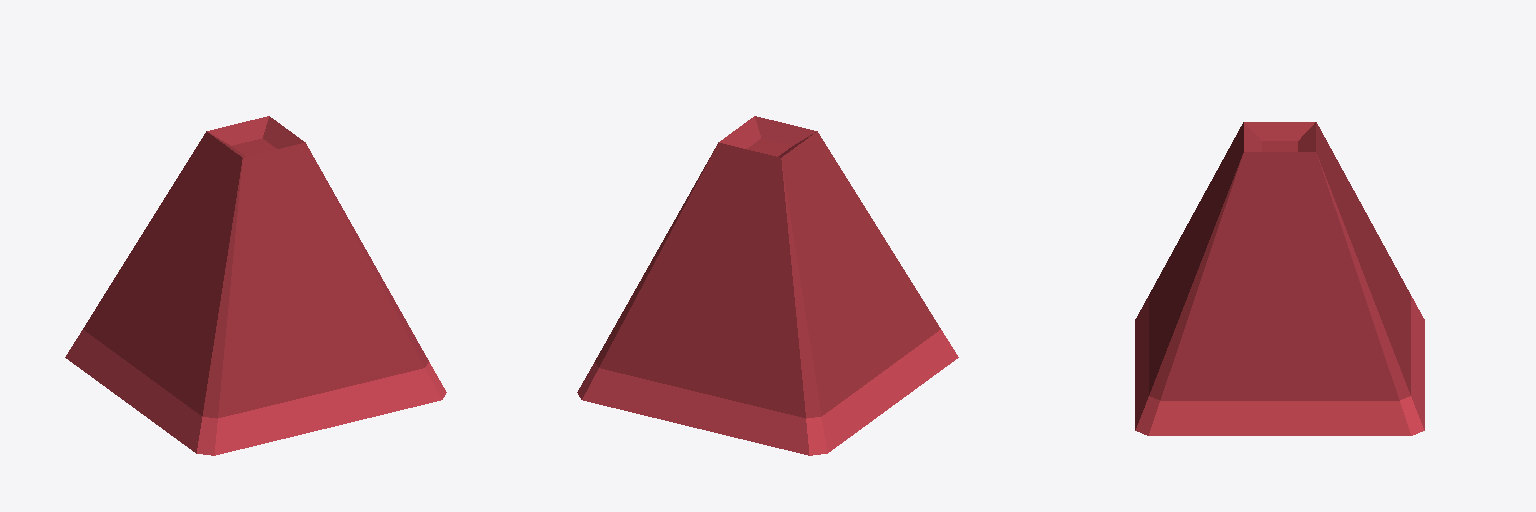
The model's file is roofHighPoint.obj.
3 views of the same model, side by side, from view 1: azimuth 30°, elevation 25°; view 2: azimuth 150°, elevation 25°; view 3: azimuth 270°, elevation 25° (orthographic).
Visible parts, largest first — view 1: roofHighPoint; view 2: roofHighPoint; view 3: roofHighPoint.
Boxes of the visible parts, x1=… form: roofHighPoint: x1=65, y1=116, x2=446, y2=455; roofHighPoint: x1=577, y1=116, x2=958, y2=455; roofHighPoint: x1=1135, y1=122, x2=1424, y2=435.
Size of the model in its own units: 1.1 by 1 by 1.1.